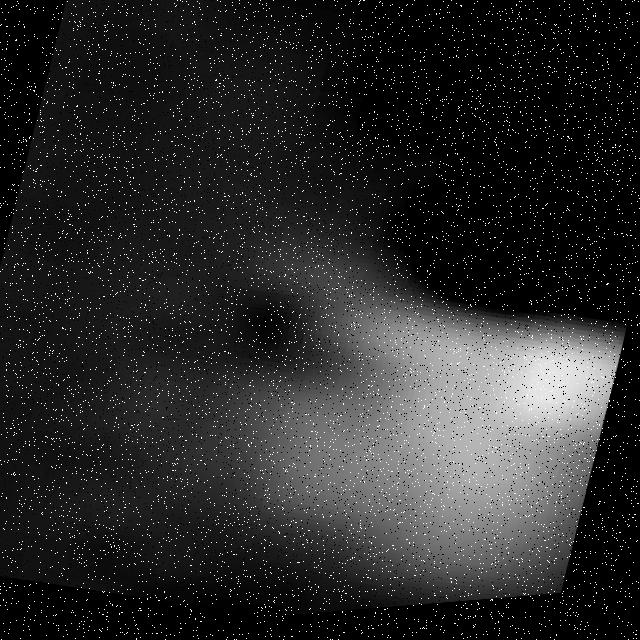person: (175, 211, 637, 610)
